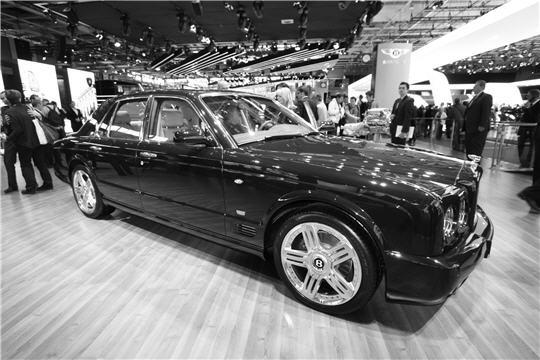car: (55, 91, 497, 315)
